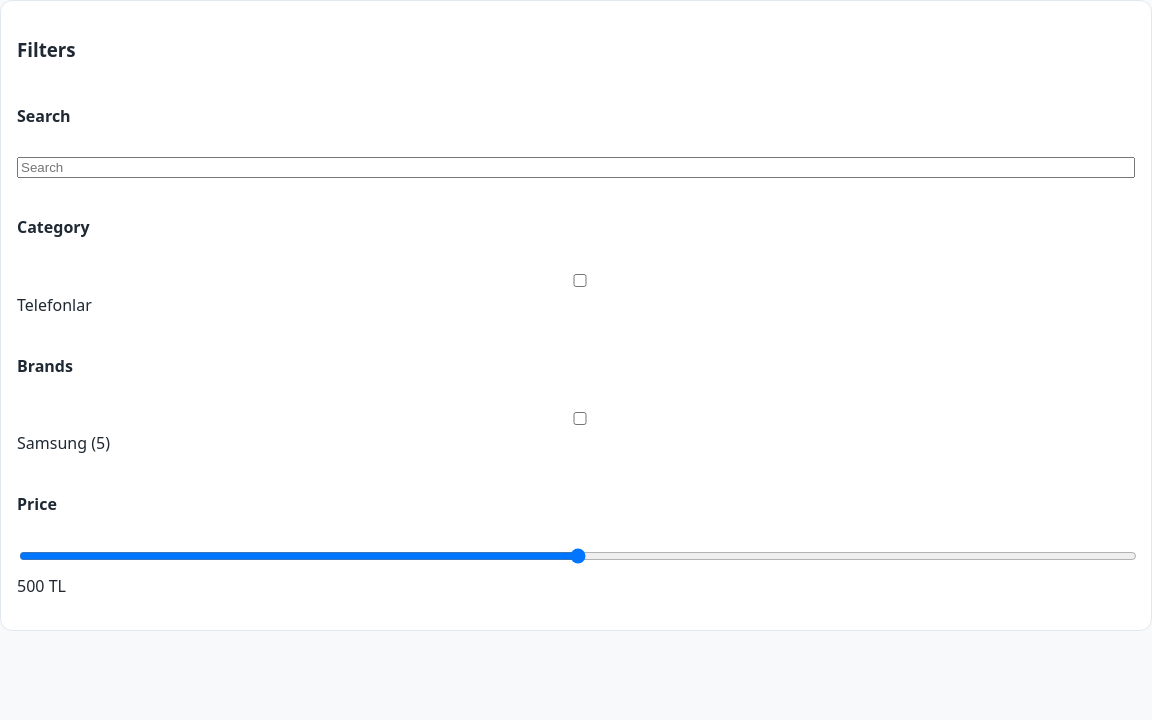
Scenario: FilterBar Component › Fiyat aralığı (range) değiştiğinde değer güncellenmeli
Step 1. Set the slider to "750" → [854, 556], box [19,548,1137,564]
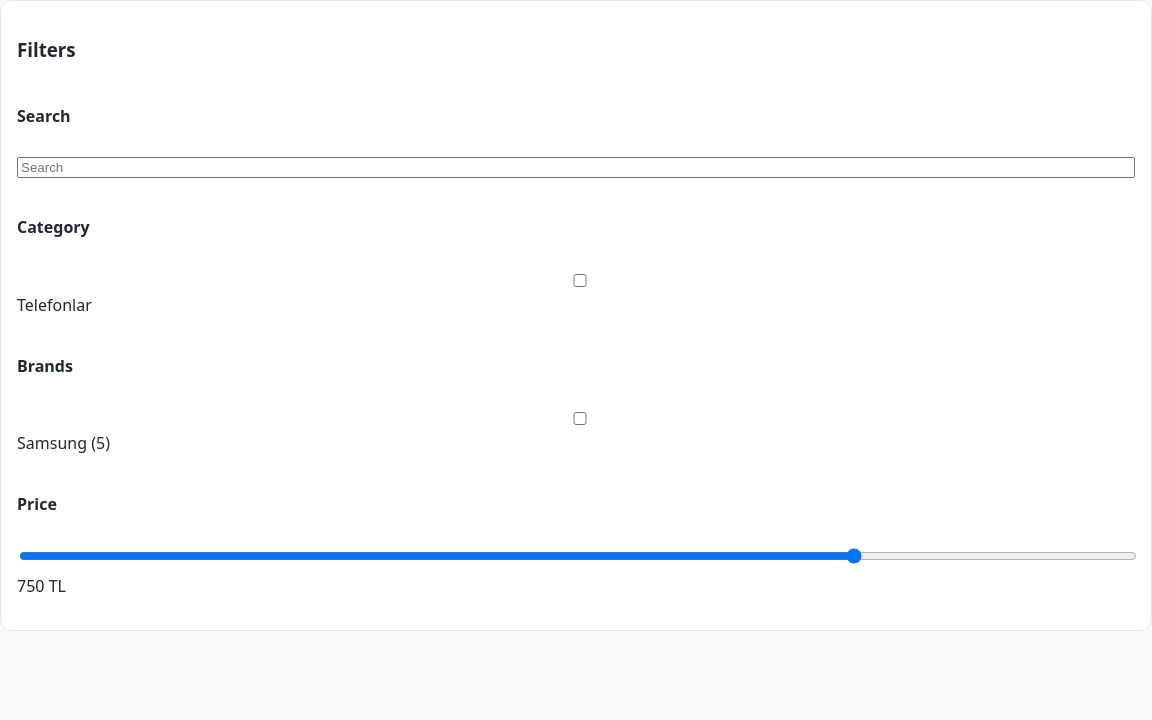
Now the text "750 TL" is shown, box [17,575,66,597]
